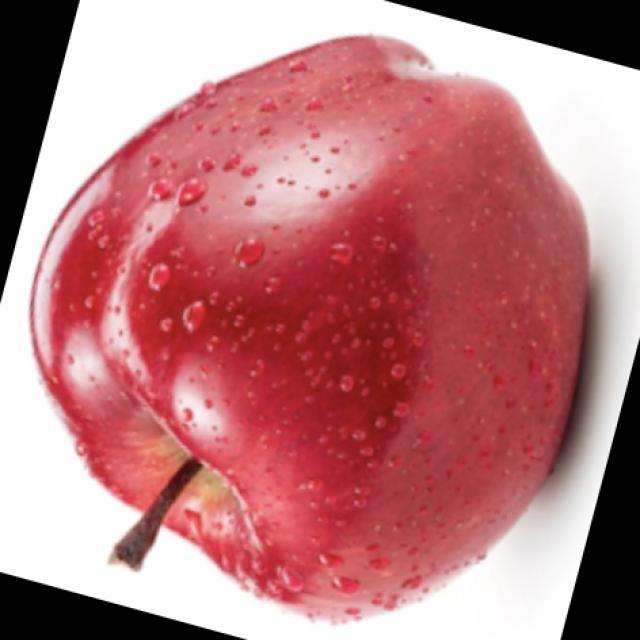Fresh Apple: (69, 43, 574, 630)
